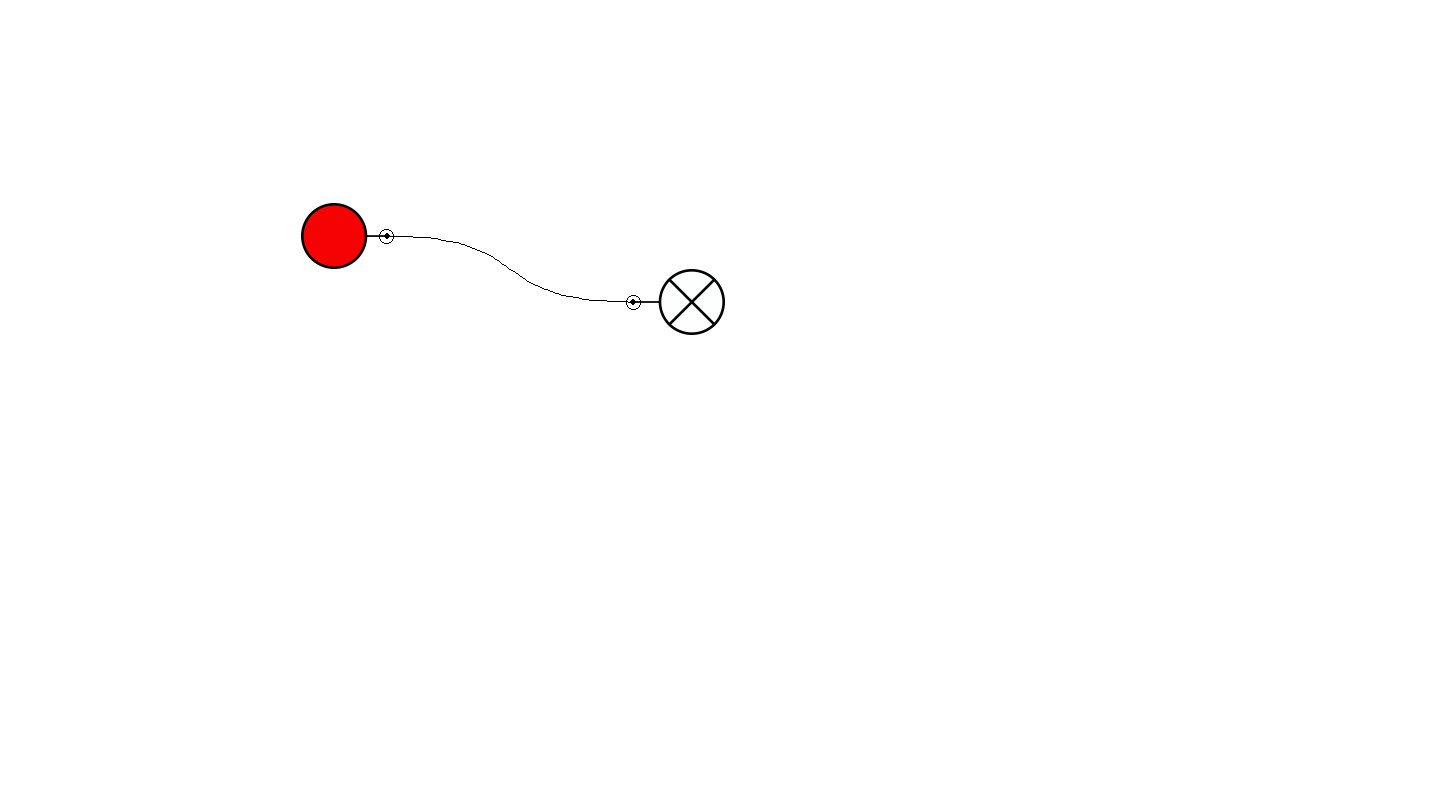bulb: (626, 269, 725, 335)
switch_False: (301, 203, 394, 269)
